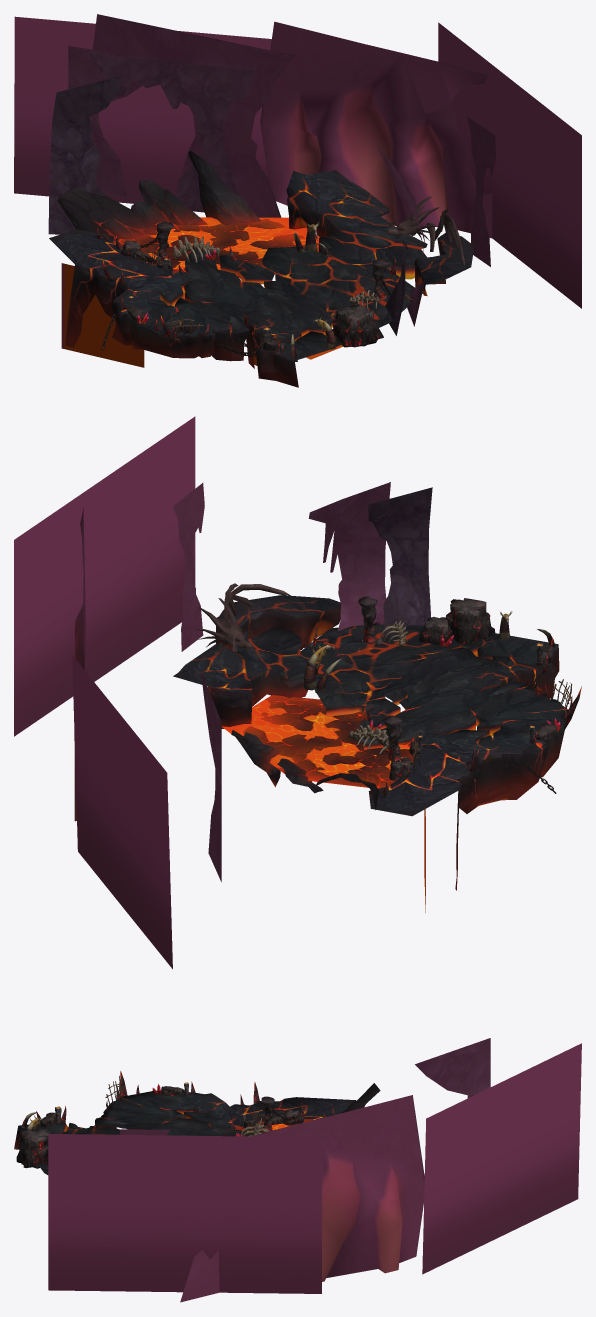
The model's file is battlescene_dragon_fire.FBX.
3 renders of one model, top to bottom at view 1: azimuth 30°, elevation 25°; view 2: azimuth 150°, elevation 25°; view 3: azimuth 270°, elevation 25°, orthographic. The views are drawn at different scales.
Visible parts, largest first — view 1: Object026; view 2: Object026; view 3: Object026.
Boxes of the visible parts, left/top/right/bottom form: Object026: left=14, top=14, right=581, bottom=387; Object026: left=14, top=416, right=581, bottom=968; Object026: left=14, top=1038, right=581, bottom=1302.
Size of the model in its own units: 2876 by 1549 by 3674.
1 material, 1 textured.
